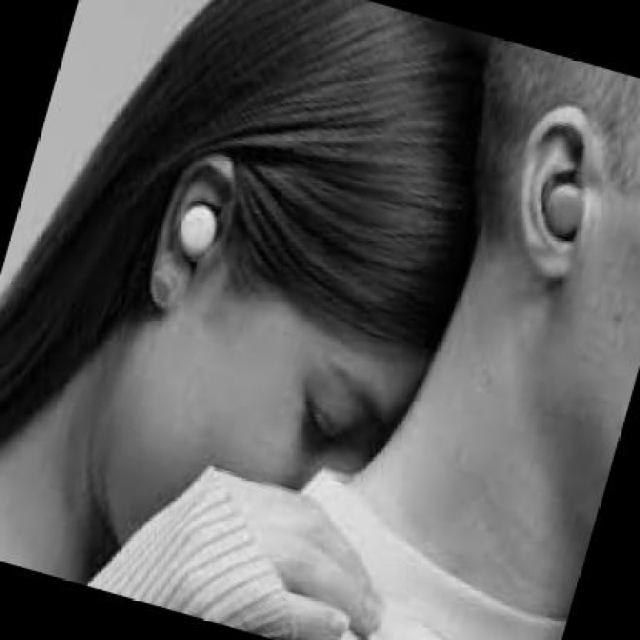earphone: (532, 167, 590, 248), (164, 193, 230, 264)
